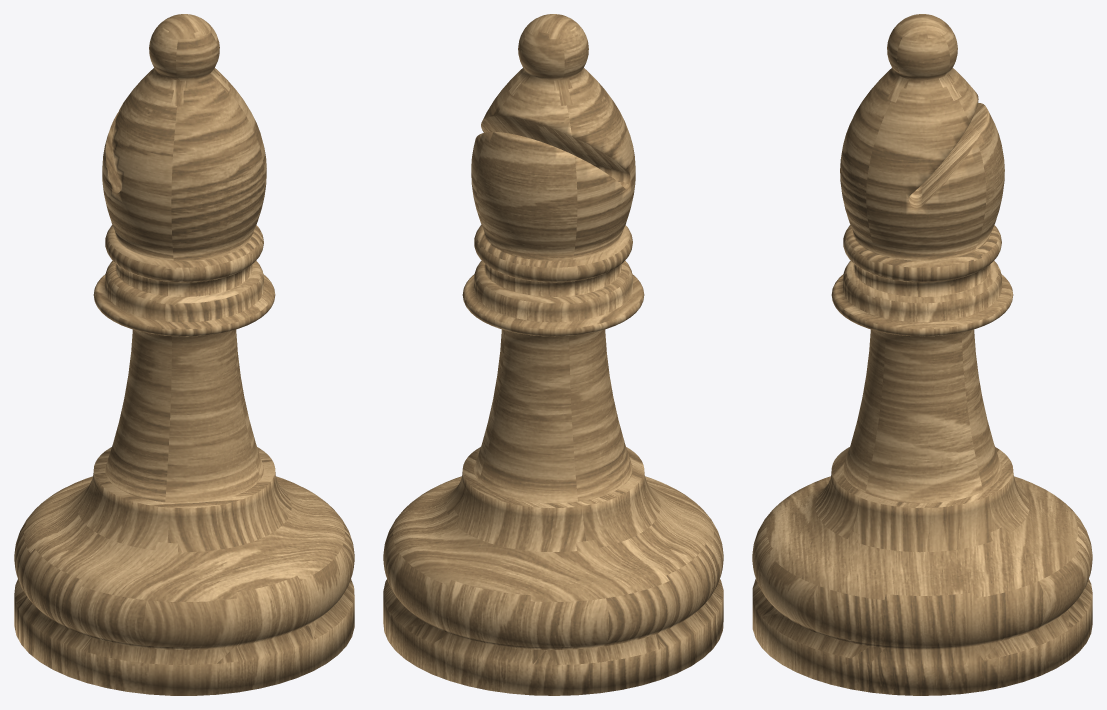
Rendered from w_bishop.glb.
The picture shows the model from 3 angles, left to right: view 1: azimuth 30°, elevation 25°; view 2: azimuth 150°, elevation 25°; view 3: azimuth 270°, elevation 25°; orthographic projection.
Visible parts, largest first — view 1: Bishop; view 2: Bishop; view 3: Bishop.
Part boxes in pixels (x1=…): Bishop: x1=14, y1=14, x2=354, y2=695; Bishop: x1=383, y1=14, x2=723, y2=695; Bishop: x1=752, y1=14, x2=1092, y2=695.
Bounding box in the file's own units: 29.98 × 59 × 30.
1 material, 1 textured.
